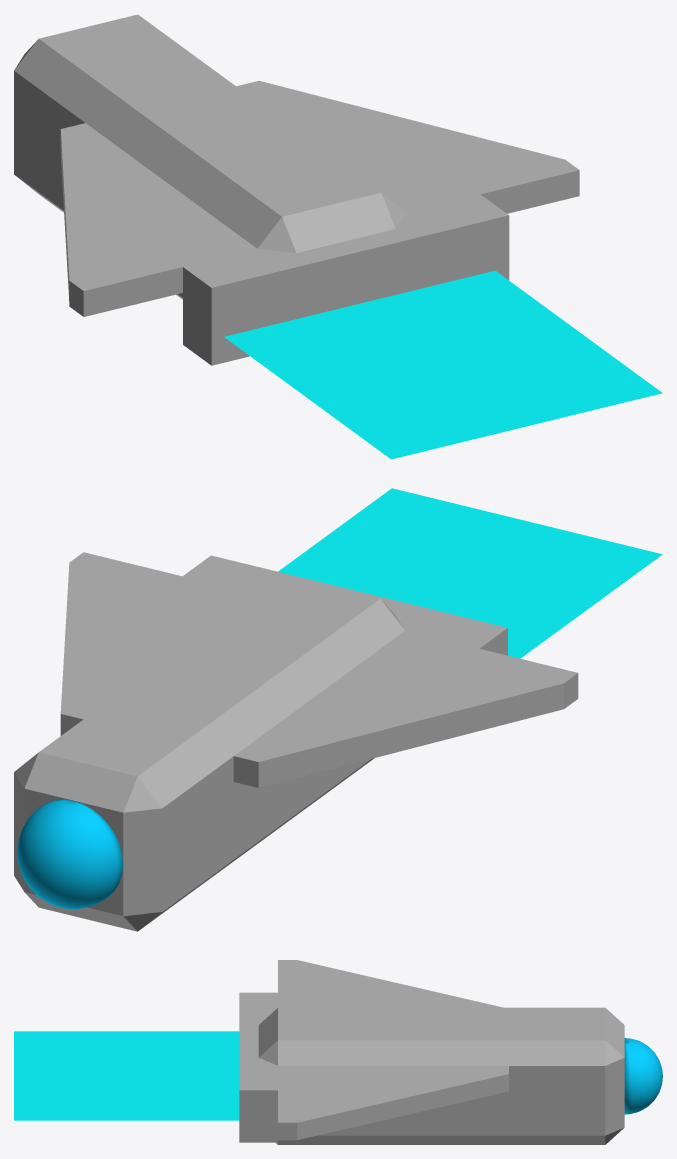
File: cruise_shuttle.glb
3 views of the same model, one above another, from view 1: azimuth 30°, elevation 25°; view 2: azimuth 150°, elevation 25°; view 3: azimuth 270°, elevation 25° (orthographic). The views are drawn at different scales.
Parts seen in each view (by area): view 1: Cube, Grid, Cube.001; view 2: Cube, Grid, Sphere, Cube.001; view 3: Cube, Grid, Cube.001, Sphere.
Boxes of the visible parts, x1,y1,x2,y2 form: Cube: (14, 14, 579, 316); Grid: (224, 270, 662, 459); Cube.001: (183, 194, 509, 365); Cube: (14, 552, 578, 931); Grid: (278, 488, 662, 658); Sphere: (17, 799, 122, 908); Cube.001: (183, 555, 507, 655); Cube: (258, 960, 624, 1144); Grid: (14, 1031, 239, 1120); Cube.001: (239, 992, 277, 1142); Sphere: (624, 1038, 662, 1114).
Bounding box in the file's own units: 20 × 6 × 33.69.
Materials: 3 (3 with a texture image).
